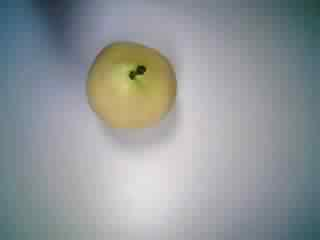pear: (76, 33, 182, 140)
